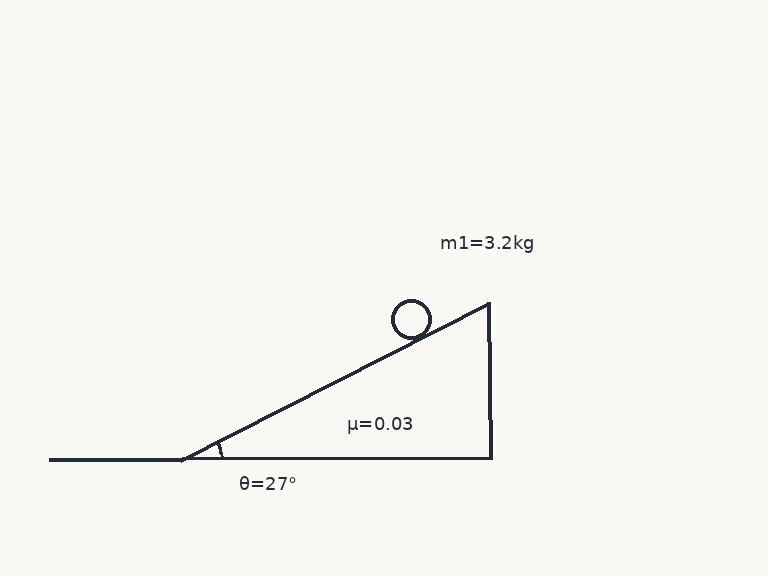ball: (389, 297, 433, 341)
ramp: (179, 300, 491, 461)
